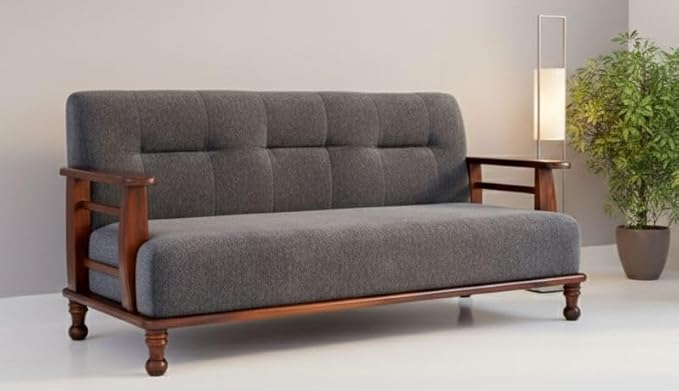3seatersofa: (61, 90, 586, 374)
backrest: (68, 90, 468, 218)
base: (65, 282, 522, 329), (525, 276, 581, 290)
leftarmrest: (466, 157, 569, 210)
leg: (145, 331, 166, 375), (69, 301, 87, 340), (563, 284, 580, 320)
rightarmrest: (60, 168, 154, 311)
seat: (137, 203, 578, 317), (90, 223, 117, 263), (90, 271, 118, 300)
